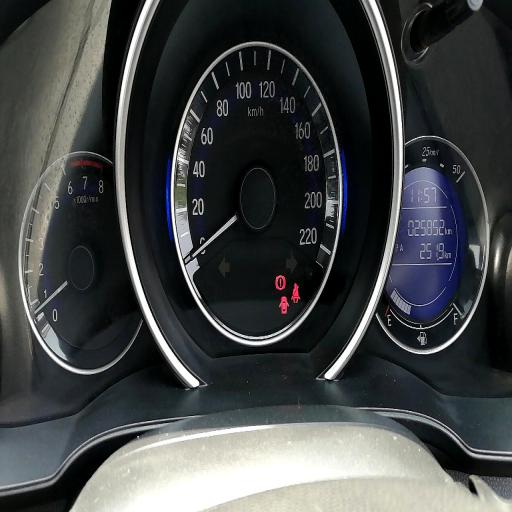belt: (290, 281, 300, 304)
brake_system_fault: (276, 274, 286, 289)
tachometer: (18, 148, 132, 375)
